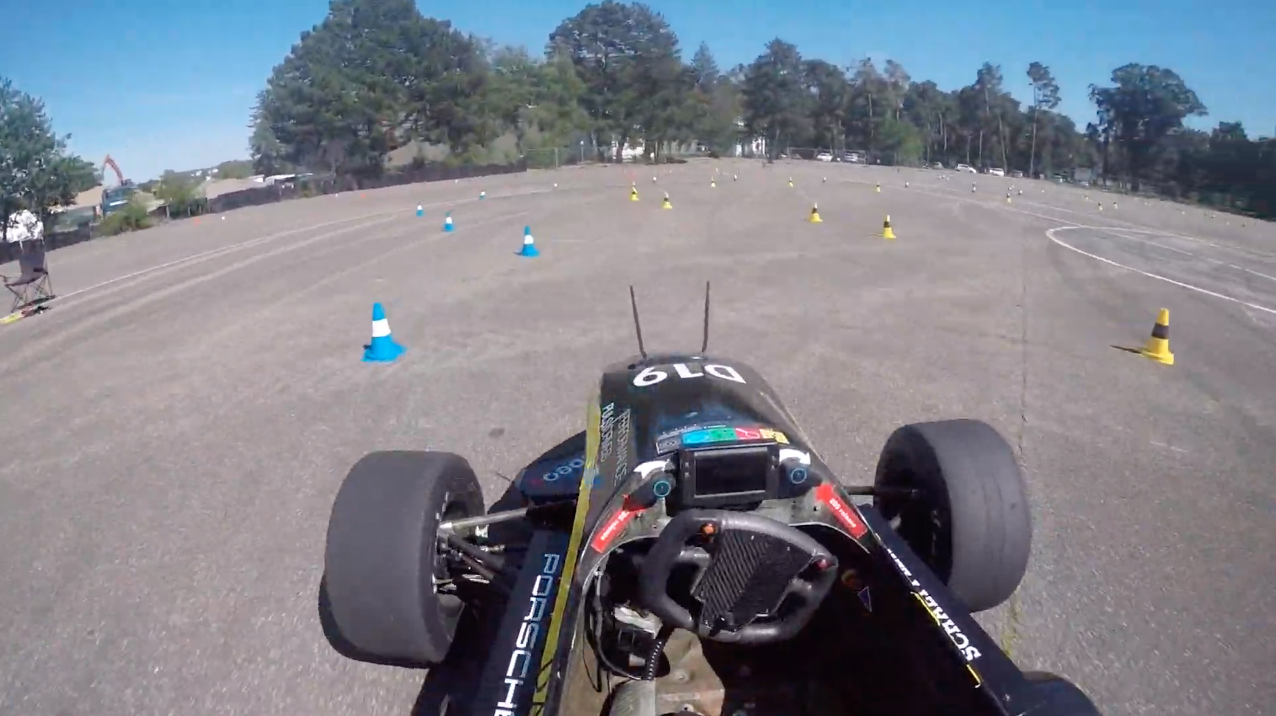lcone: (356, 300, 409, 368), (513, 224, 542, 259)
rcone: (1131, 303, 1181, 366), (877, 211, 902, 242), (807, 198, 825, 224)
